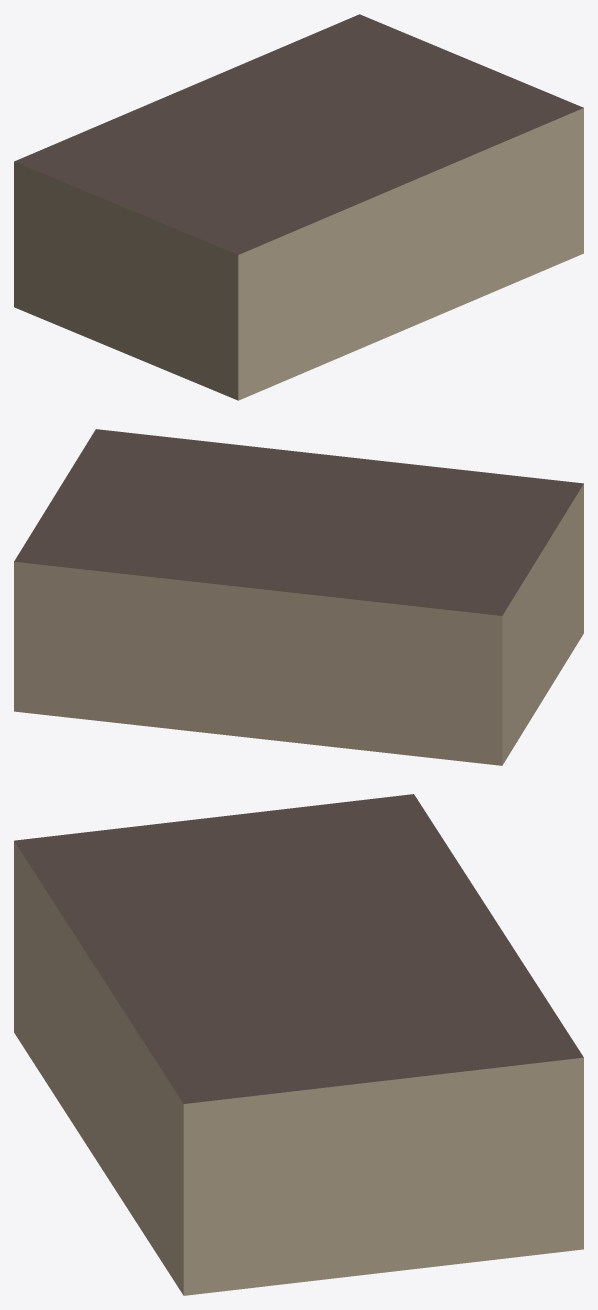
The picture shows the model from 3 angles, top to bottom: view 1: azimuth 30°, elevation 25°; view 2: azimuth 150°, elevation 25°; view 3: azimuth 270°, elevation 25°; orthographic projection. The views are drawn at different scales.
Visible parts, largest first — view 1: HP-w373833556; view 2: HP-w373833556; view 3: HP-w373833556.
Boxes of the visible parts, x1,y1,x2,y2 form: HP-w373833556: [14, 14, 583, 400]; HP-w373833556: [14, 429, 583, 765]; HP-w373833556: [14, 794, 583, 1295].
Size of the model in its own units: 31.2 by 9 by 24.24.
